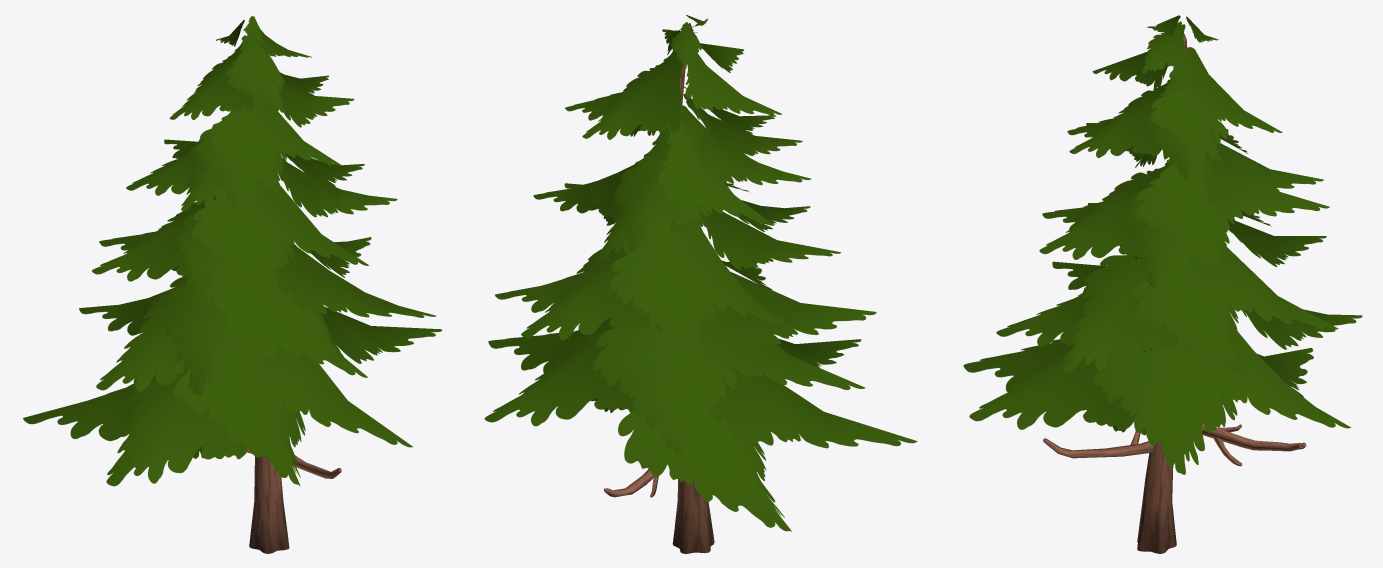
The model's file is pine-4.glb.
3 views of the same model, side by side, from view 1: azimuth 30°, elevation 25°; view 2: azimuth 150°, elevation 25°; view 3: azimuth 270°, elevation 25° (orthographic). The views are drawn at different scales.
Parts seen in each view (by area): view 1: Pine_2; view 2: Pine_2; view 3: Pine_2.
Boxes of the visible parts, <box> form: Pine_2: <box>23,16,441,553</box>; Pine_2: <box>484,15,917,553</box>; Pine_2: <box>963,15,1362,553</box>.
Size of the model in its own units: 5.73 by 7.38 by 5.22.
Materials: 2 (2 with a texture image).
